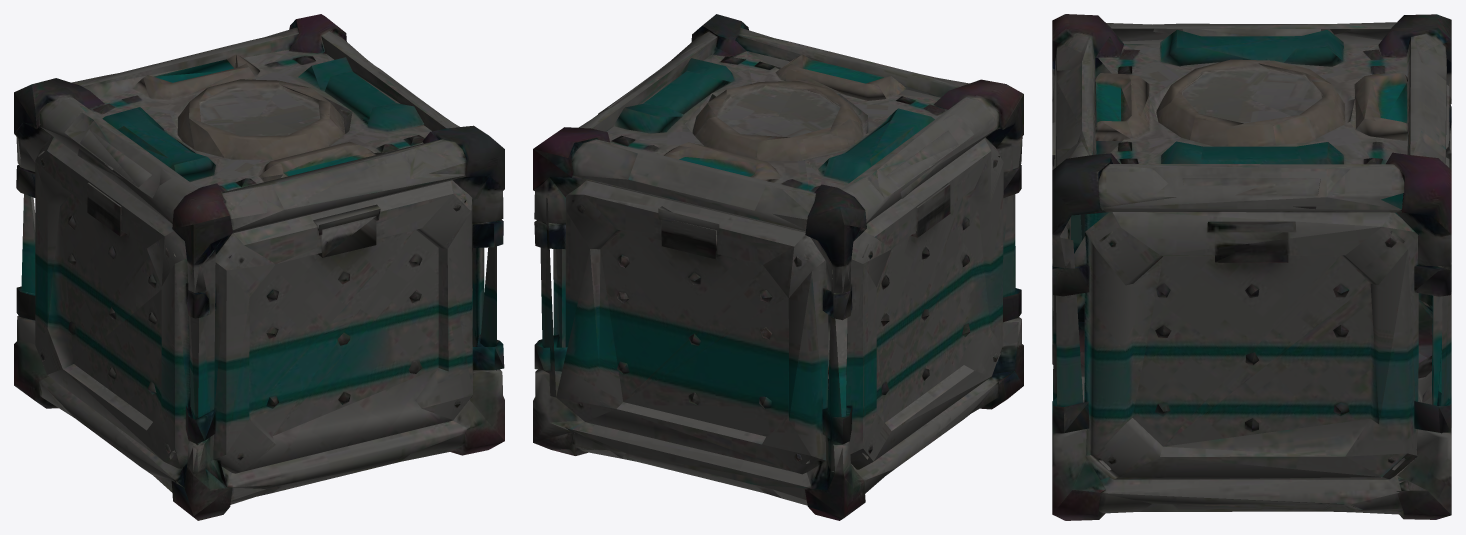
Rendered from crate-large.glb.
3 views of the same model, side by side, from view 1: azimuth 30°, elevation 25°; view 2: azimuth 150°, elevation 25°; view 3: azimuth 270°, elevation 25° (orthographic). The views are drawn at different scales.
Bounding box in the file's own units: 1.16 × 1.12 × 1.16.
1 material, 1 textured.
